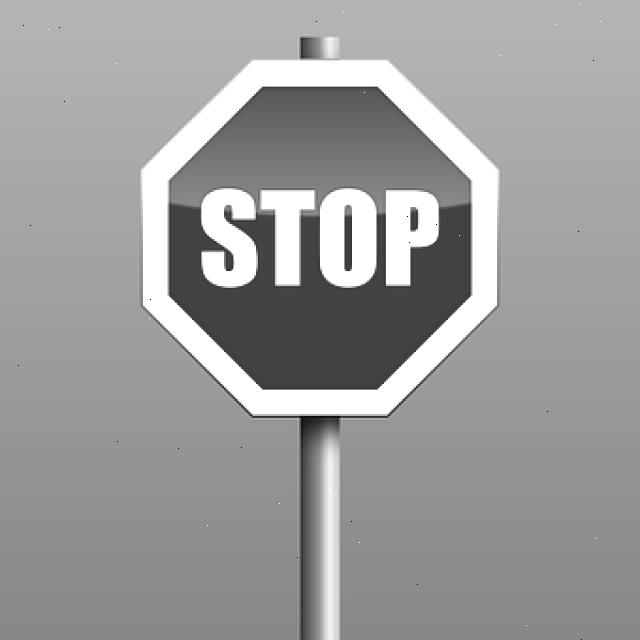Stop-sign: (118, 55, 520, 422)
